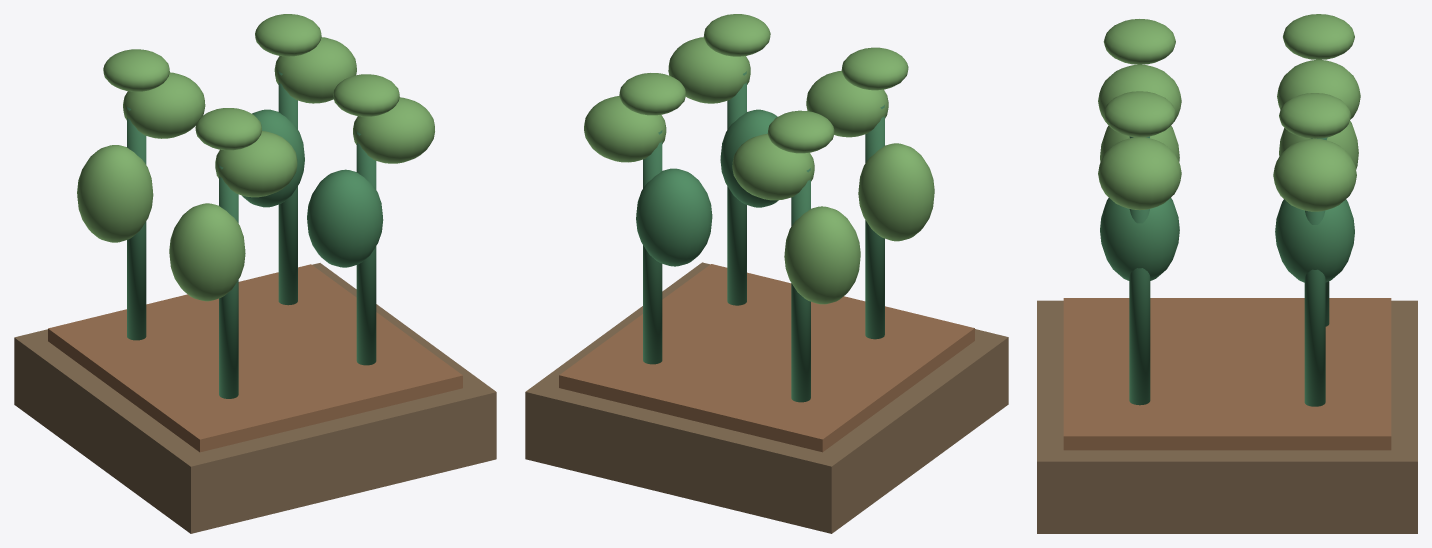
File: garden.herb.melissa-old.glb
3 views of the same model, side by side, from view 1: azimuth 30°, elevation 25°; view 2: azimuth 150°, elevation 25°; view 3: azimuth 270°, elevation 25° (orthographic). The views are drawn at different scales.
Visible parts, largest first — view 1: garden timber frame; view 2: garden timber frame; view 3: garden timber frame.
Part boxes in pixels (x1,y1,x2,y2): garden timber frame: [14, 14, 496, 533]; garden timber frame: [525, 14, 1008, 533]; garden timber frame: [1037, 14, 1417, 533].
Bounding box in the file's own units: 1 × 1.14 × 1.
